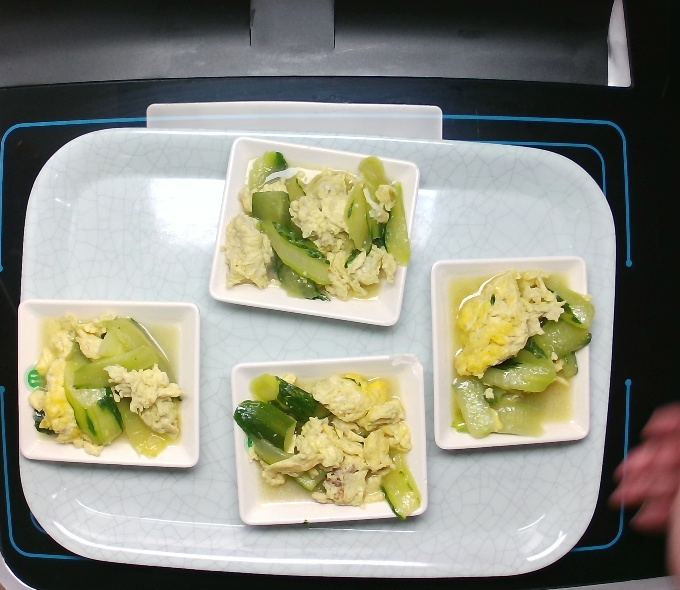wcq-DanHuangHuangGua: (216, 134, 416, 317), (224, 366, 425, 523), (21, 303, 199, 464), (443, 270, 593, 445)
